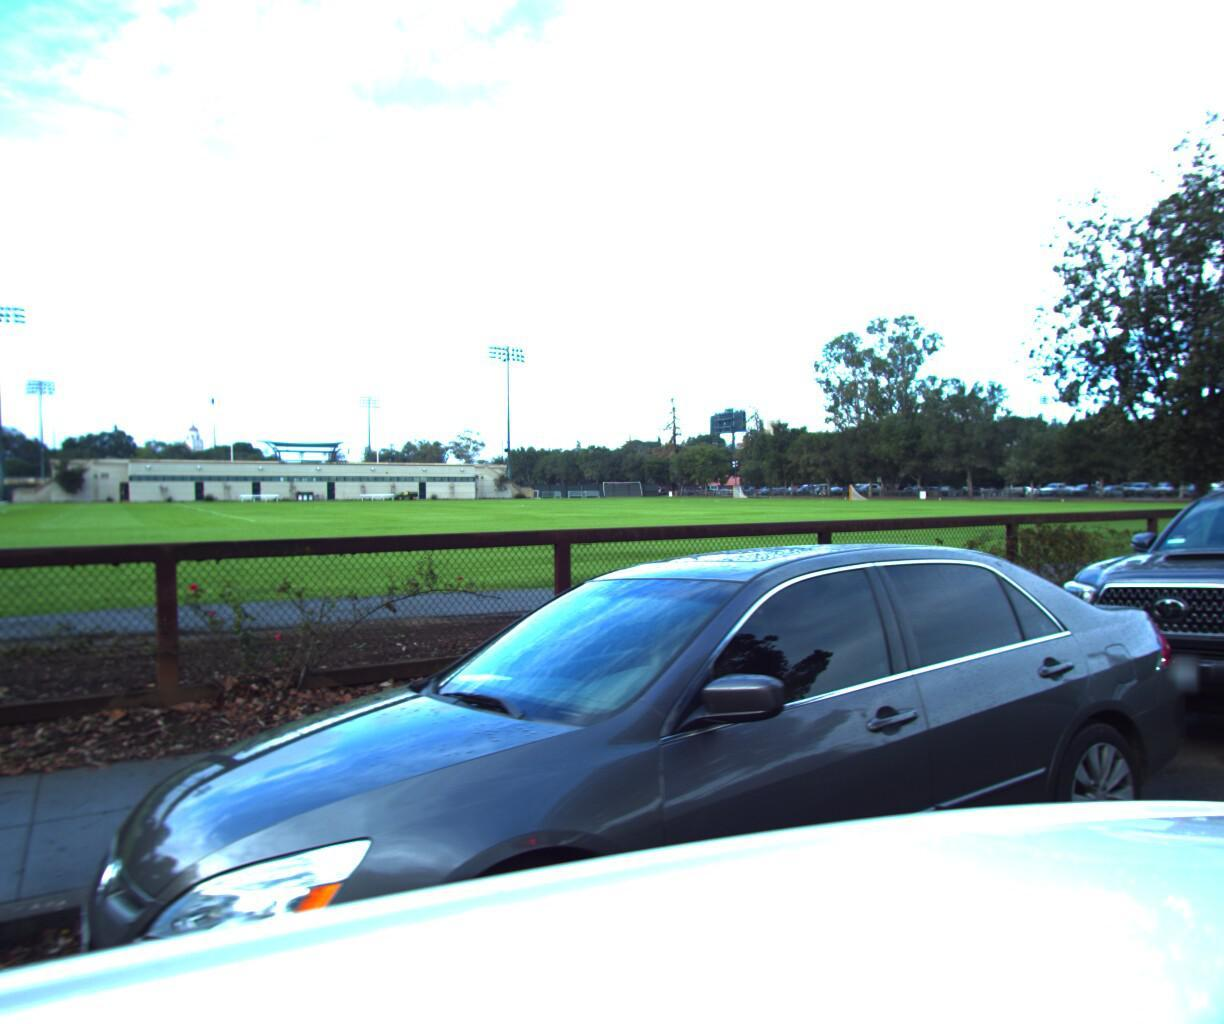car: (0, 517, 1224, 1024), (1017, 456, 1224, 822)
